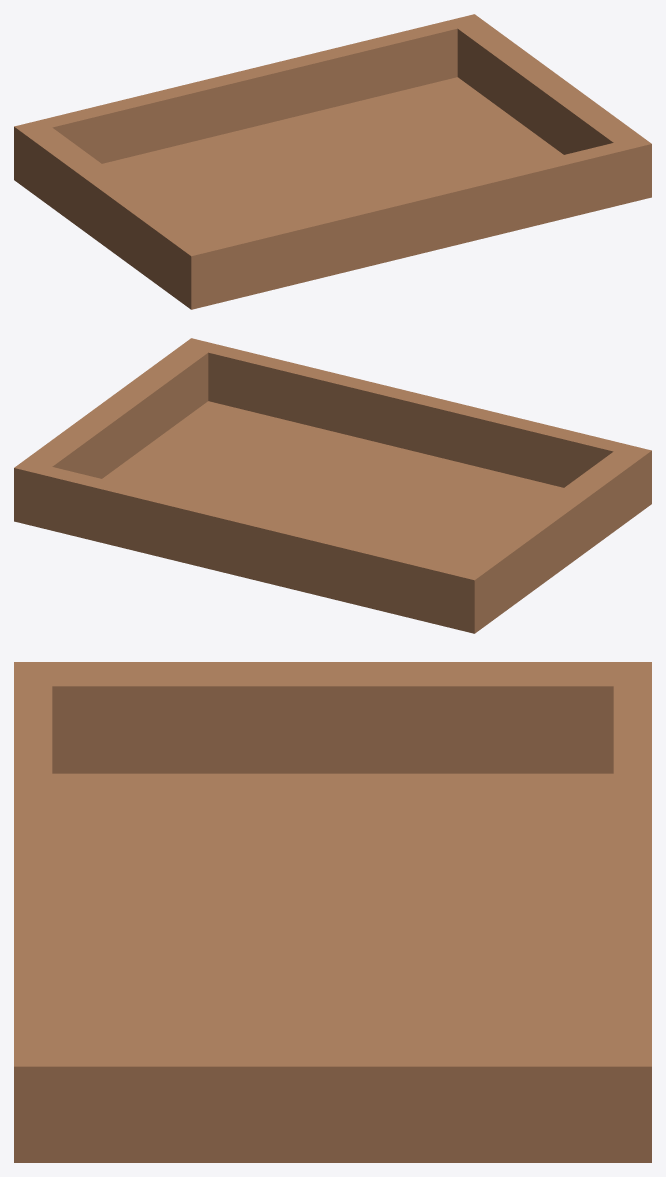
The model's file is catchall-tray.glb.
The picture shows the model from 3 angles, top to bottom: view 1: azimuth 30°, elevation 25°; view 2: azimuth 150°, elevation 25°; view 3: azimuth 270°, elevation 25°; orthographic projection. The views are drawn at different scales.
Parts seen in each view (by area): view 1: catchall-tray; view 2: catchall-tray; view 3: catchall-tray.
Boxes of the visible parts, box(x1,y1,x2,y2) form: catchall-tray: box(14, 14, 651, 309); catchall-tray: box(14, 338, 651, 633); catchall-tray: box(14, 662, 651, 1162).
Bounding box in the file's own units: 18 × 2 × 12.
